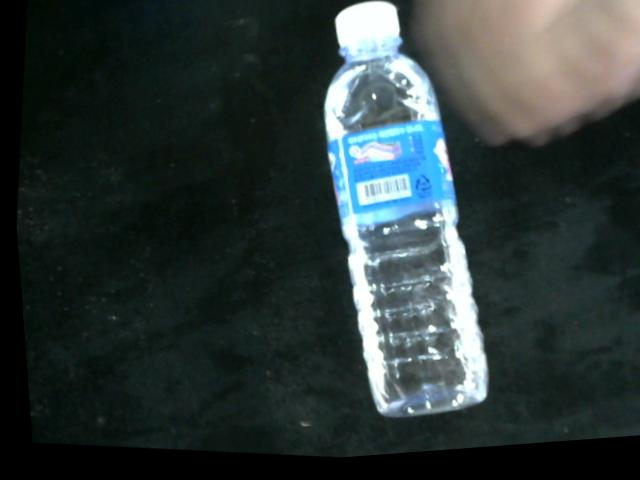bottle: (318, 4, 486, 426)
